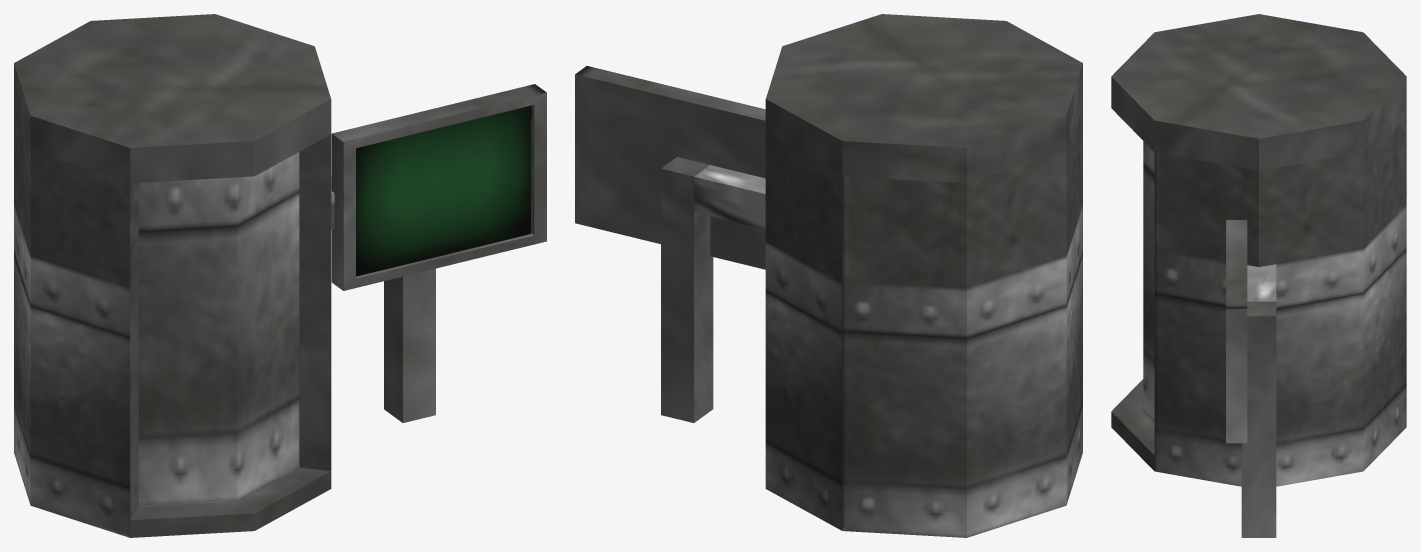
File: Cloner.fbx
3 views of the same model, side by side, from view 1: azimuth 30°, elevation 25°; view 2: azimuth 150°, elevation 25°; view 3: azimuth 270°, elevation 25° (orthographic). The views are drawn at different scales.
Parts seen in each view (by area): view 1: Tube, Door; view 2: Tube; view 3: Tube, Door.
Boxes of the visible parts, x1,y1,x2,y2 form: Tube: [14, 14, 546, 537]; Door: [138, 152, 299, 505]; Tube: [575, 14, 1082, 537]; Tube: [1111, 14, 1406, 537]; Door: [1143, 141, 1154, 422].
Size of the model in its own units: 294 by 220 by 168.
